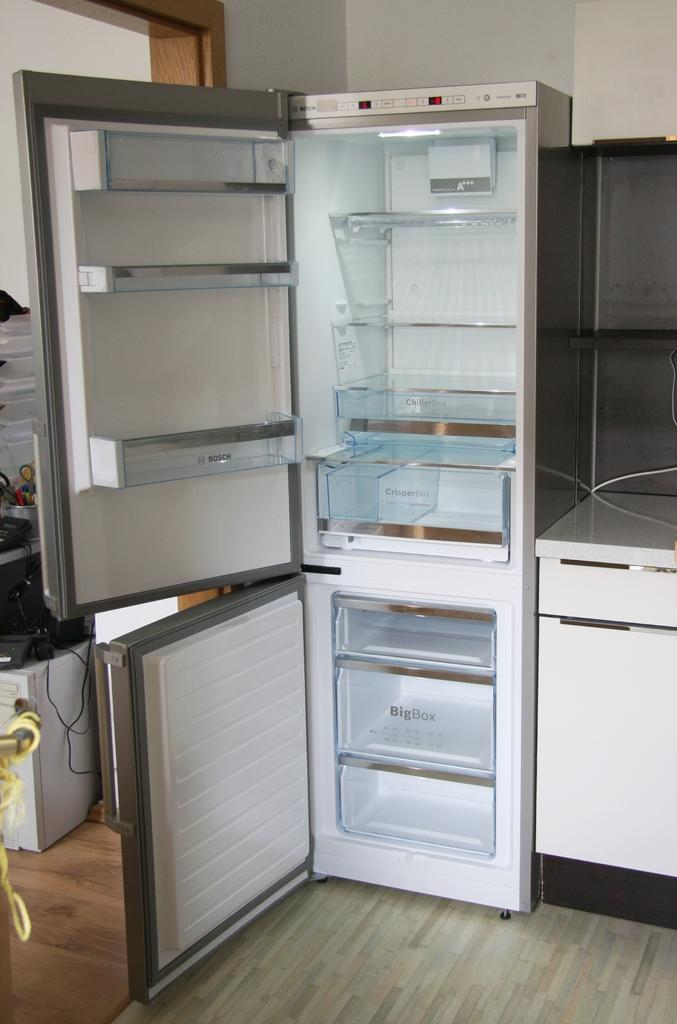cabinet_door: (540, 616, 677, 852), (540, 555, 677, 623)
handle: (90, 642, 134, 826), (562, 542, 677, 604), (28, 421, 58, 616), (560, 606, 677, 647)
